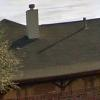Chimney: (16, 2, 45, 44)
